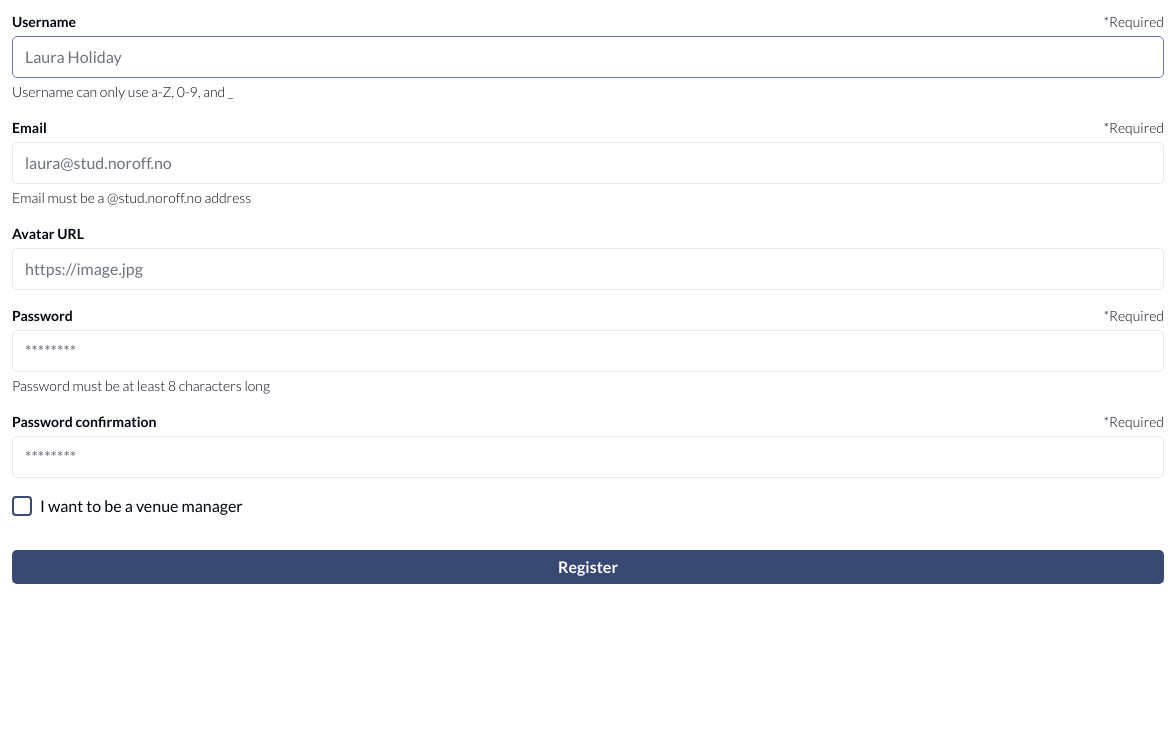
RegisterForm › Should display validation errors on submit
Step 1. Click the button "Register" → point(588, 567), box [12, 550, 1164, 584]
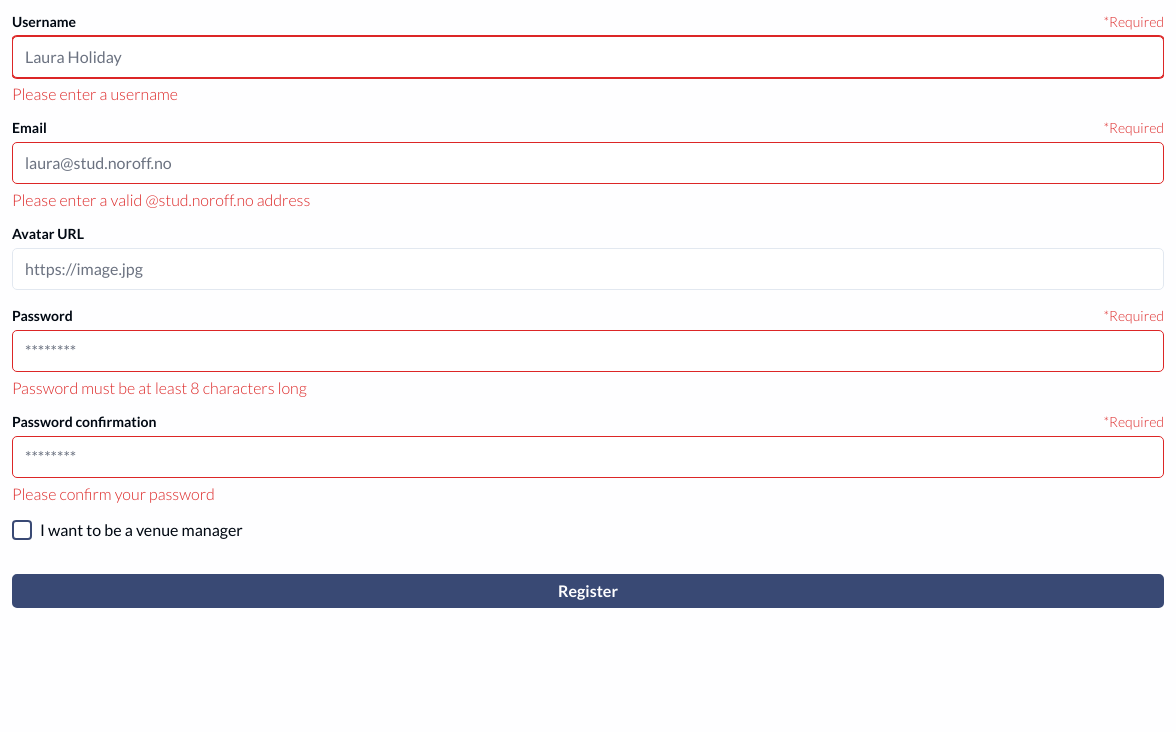
Result: the text "Please enter a username" is shown at [12, 84, 178, 103]
Result: the text "Please enter a valid @stud.noroff.no address" is shown at [12, 190, 310, 209]
Result: the text "Please confirm your password" is shown at [12, 484, 215, 503]
